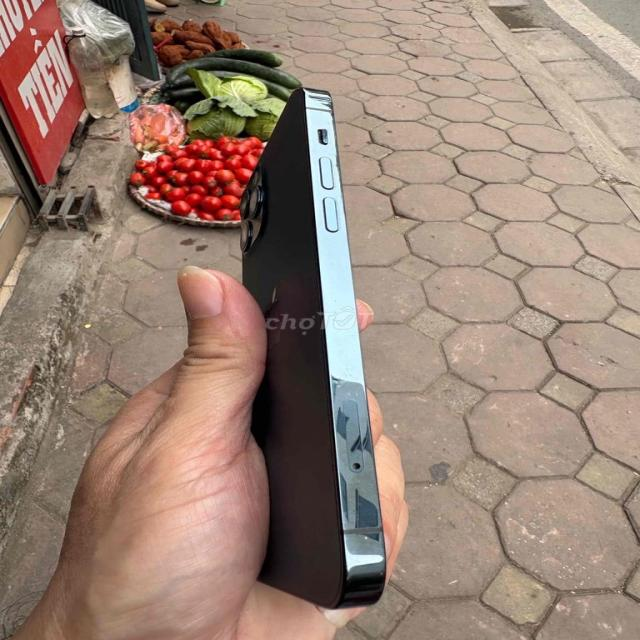gen_12_13: (225, 63, 404, 616)
